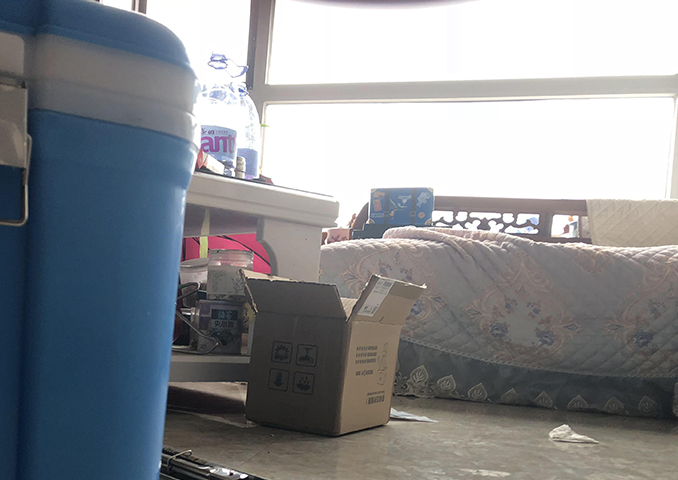bed: (320, 193, 678, 419)
